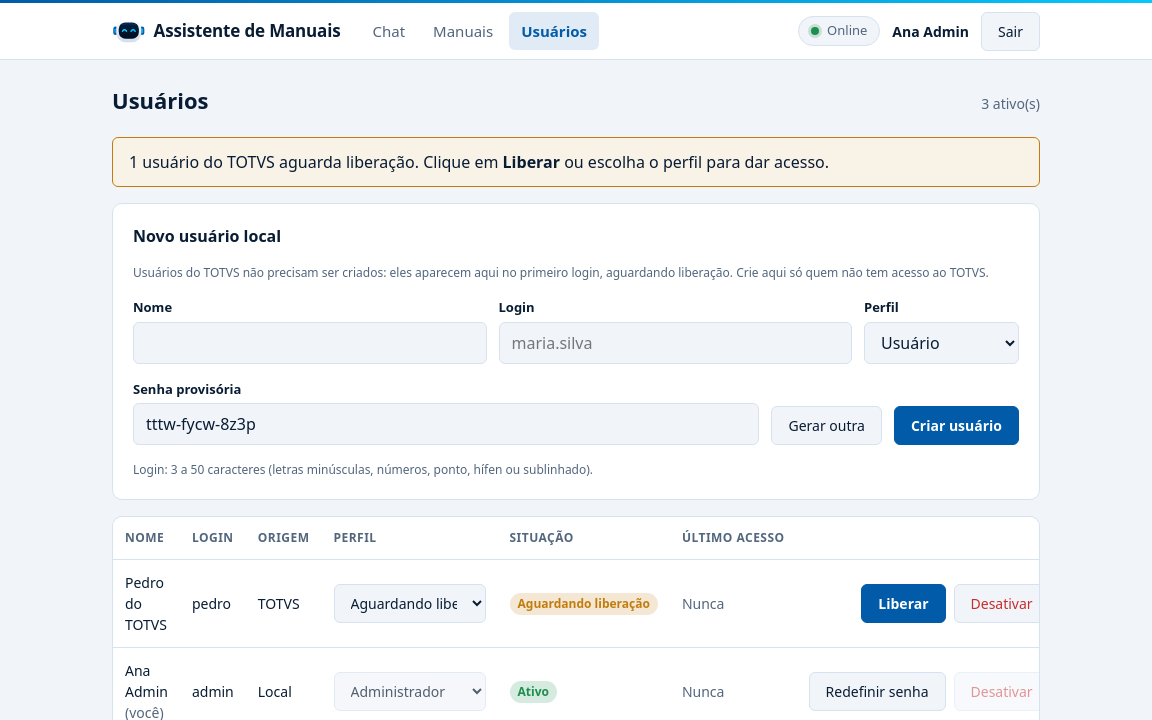
<UsersAdmin /> › highlights TOTVS users awaiting approval and releases them
Expected: the table is shown, [113,517,1040,719]
Expected: the text "1 usuário do TOTVS aguarda liberação" is shown, [129,151,419,173]
Click the button "Liberar" at (903, 604), box [861,584,946,623]
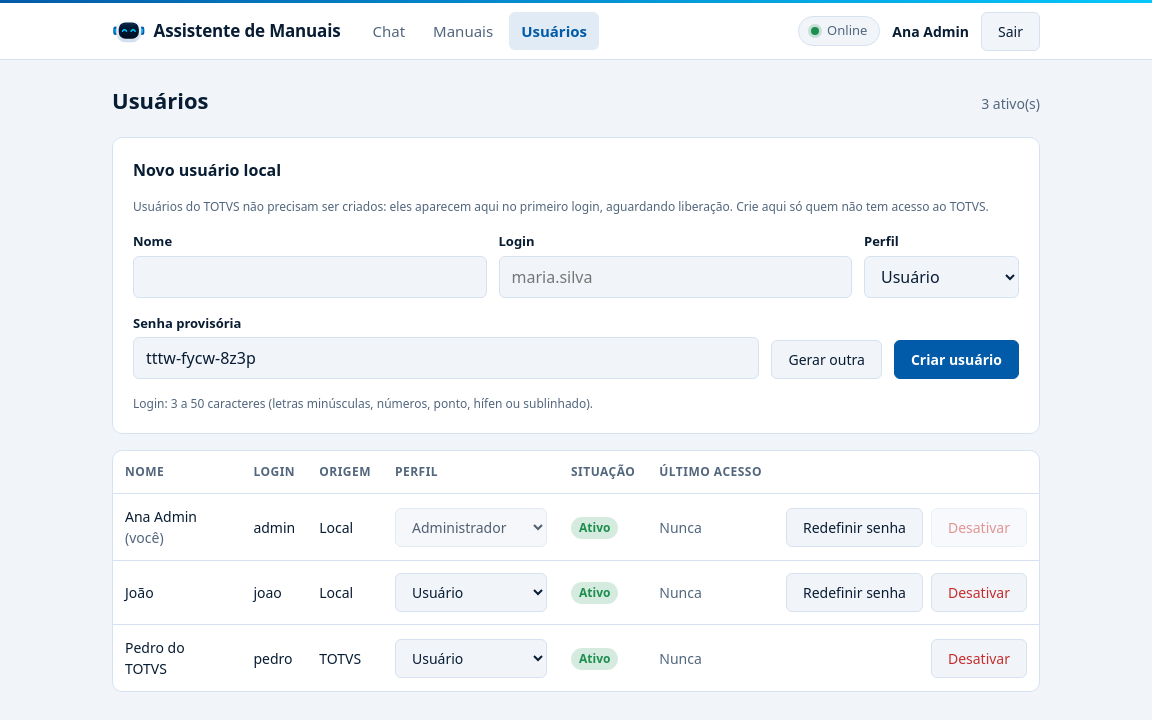
Expected: the text "Ativo" in the row of "Pedro do TOTVS" is shown, [579,650,610,666]
Expected: the text "aguarda liberação" is gone
